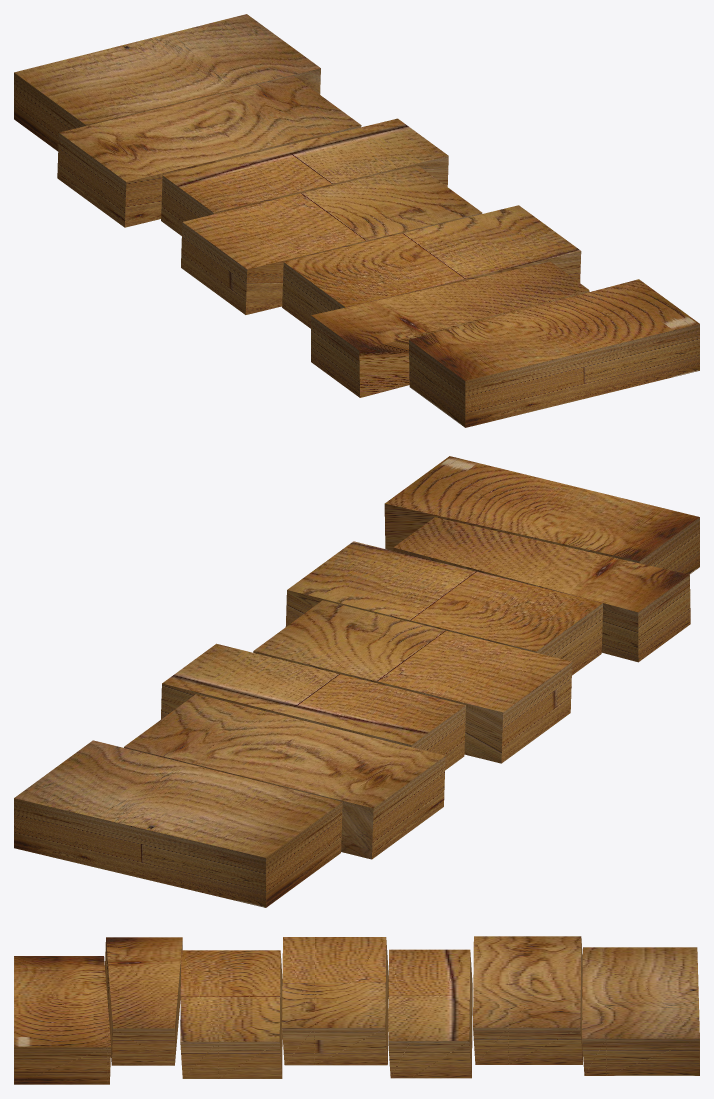
The model's file is woodbridge.FBX.
3 renders of one model, top to bottom at view 1: azimuth 30°, elevation 25°; view 2: azimuth 150°, elevation 25°; view 3: azimuth 270°, elevation 25°, orthographic. The views are drawn at different scales.
Parts seen in each view (by area): view 1: Box001; view 2: Box001; view 3: Box001.
Boxes of the visible parts, x1,y1,x2,y2 form: Box001: [14, 14, 699, 427]; Box001: [14, 456, 699, 907]; Box001: [14, 936, 699, 1084].
Size of the model in its own units: 41.22 by 6.48 by 108.
1 material, 1 textured.
